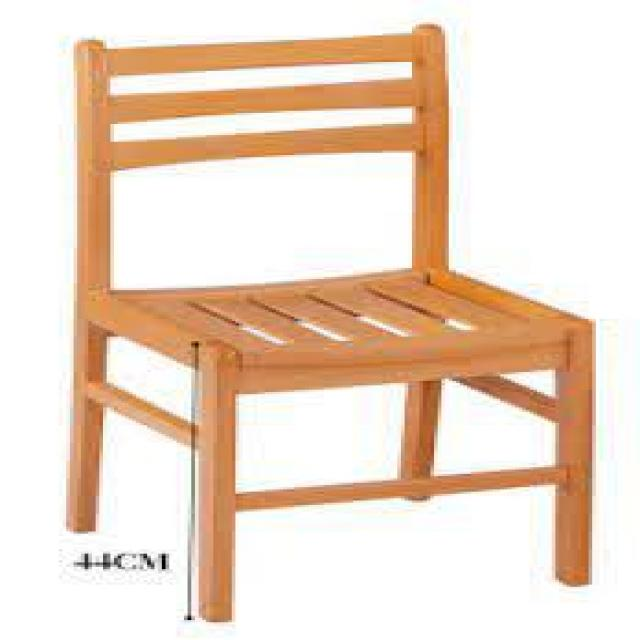chair: (28, 18, 608, 622)
